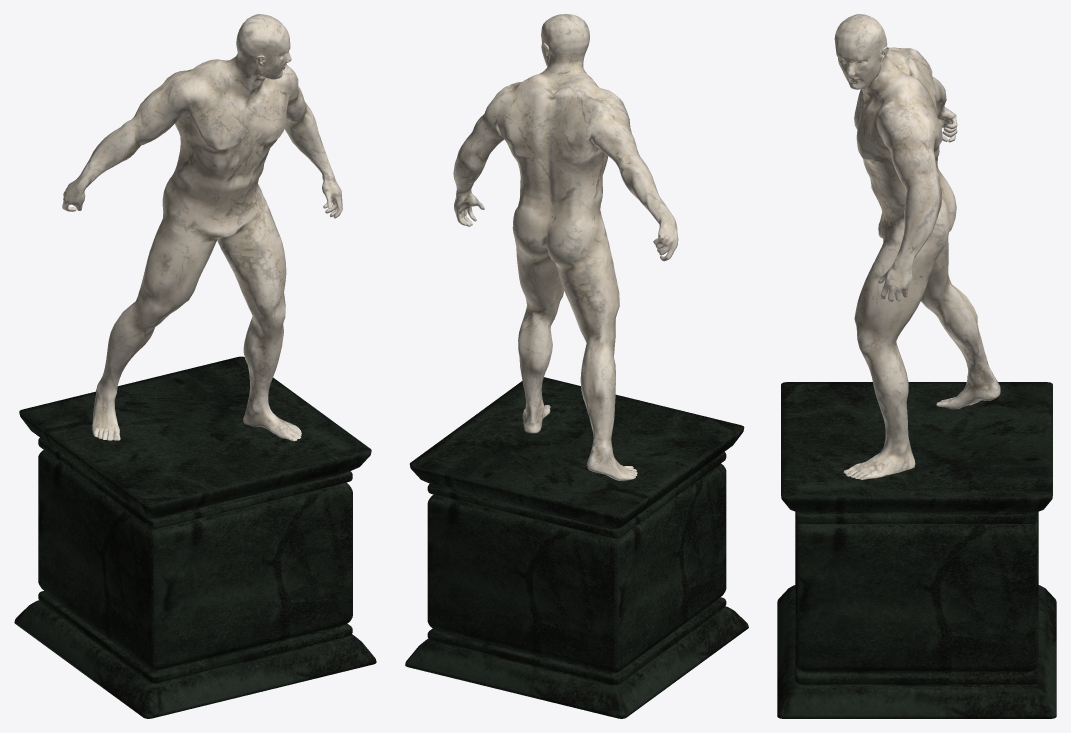
The model's file is mansion-statue.glb.
3 views of the same model, side by side, from view 1: azimuth 30°, elevation 25°; view 2: azimuth 150°, elevation 25°; view 3: azimuth 270°, elevation 25° (orthographic). The views are drawn at different scales.
Bounding box in the file's own units: 1.99 × 4.75 × 1.82.
Materials: 2 (2 with a texture image).
